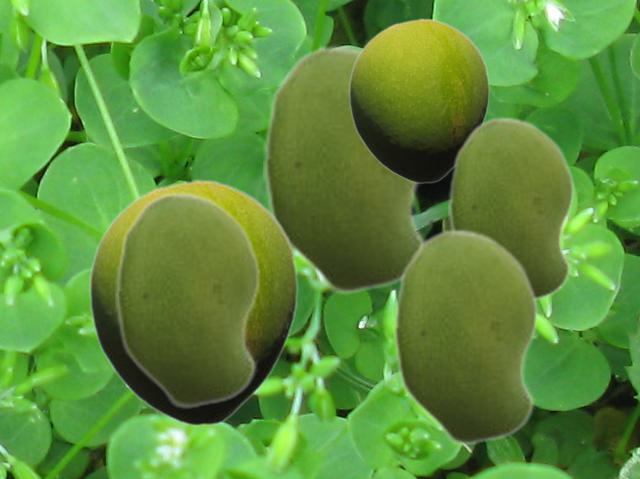green_mango: (88, 179, 298, 426), (263, 44, 425, 295), (115, 191, 260, 409), (393, 228, 538, 446), (448, 116, 574, 303), (348, 18, 489, 183)
